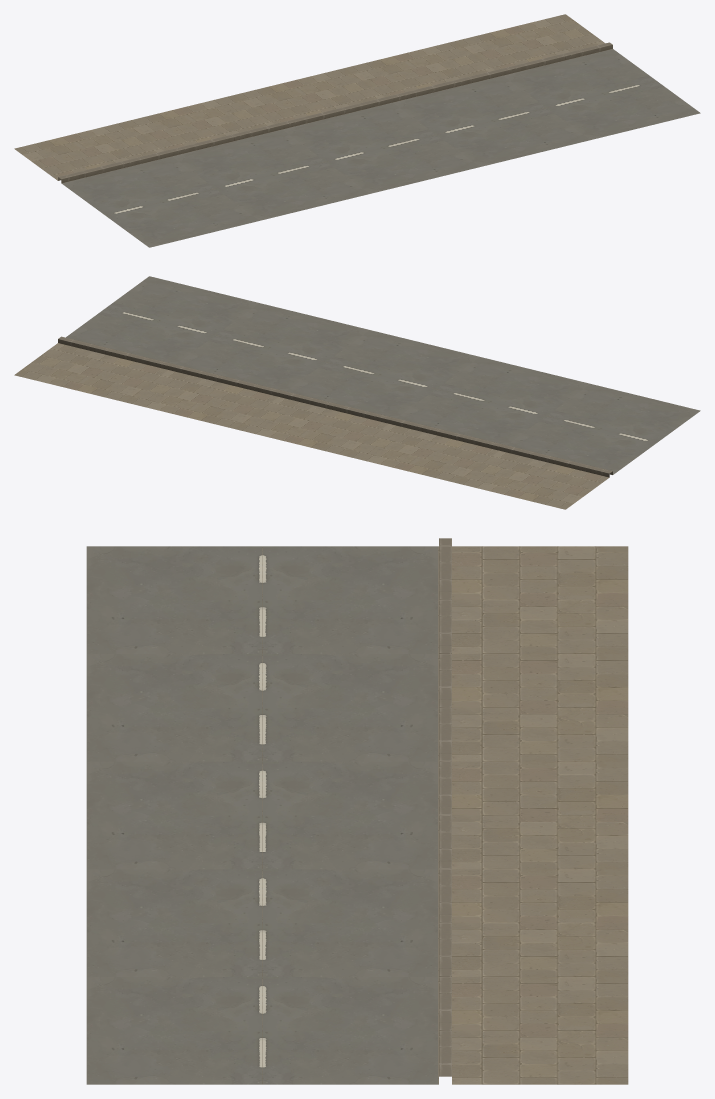
The model's file is Road.002.fbx.
3 views of the same model, one above another, from view 1: azimuth 30°, elevation 25°; view 2: azimuth 150°, elevation 25°; view 3: azimuth 270°, elevation 25° (orthographic). The views are drawn at different scales.
Parts seen in each view (by area): view 1: Road.002; view 2: Road.002; view 3: Road.002.
Part boxes in pixels (x1,y1,x2,y2): Road.002: [14, 14, 700, 247]; Road.002: [14, 276, 700, 509]; Road.002: [86, 538, 628, 1084].
Bounding box in the file's own units: 8681 × 60 × 3690.
